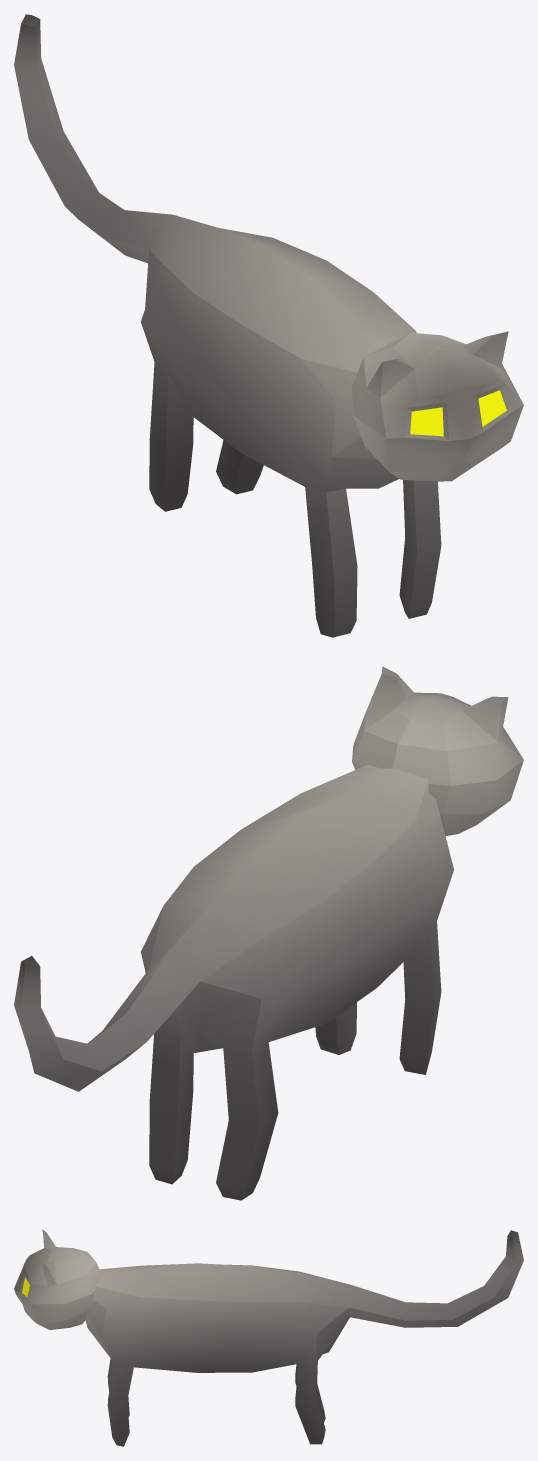
3 renders of one model, top to bottom at view 1: azimuth 30°, elevation 25°; view 2: azimuth 150°, elevation 25°; view 3: azimuth 270°, elevation 25°, orthographic. The views are drawn at different scales.
Parts seen in each view (by area): view 1: cat; view 2: cat; view 3: cat.
Boxes of the visible parts, bbox=[...] form: cat: bbox=[14, 14, 523, 637]; cat: bbox=[14, 666, 523, 1200]; cat: bbox=[14, 1229, 523, 1446].
Bounding box in the file's own units: 0.1645 × 0.3102 × 0.7095.
1 material, 1 textured.
